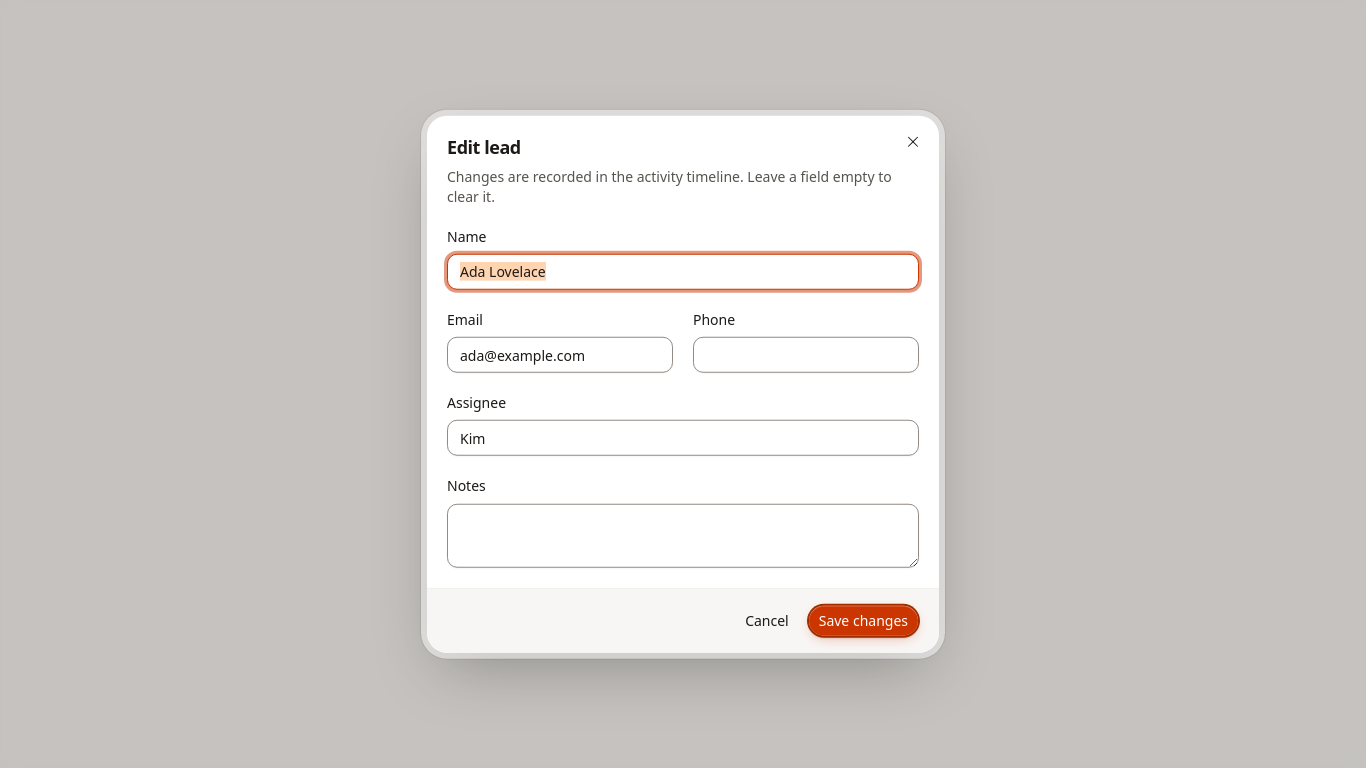
Test: EditLeadDialog › shows validation errors next to the field and does not submit
Replace the text in the field labelled "Email" with "not-an-email" at [560, 355], box top-left (447, 337), bottom-right (673, 373)
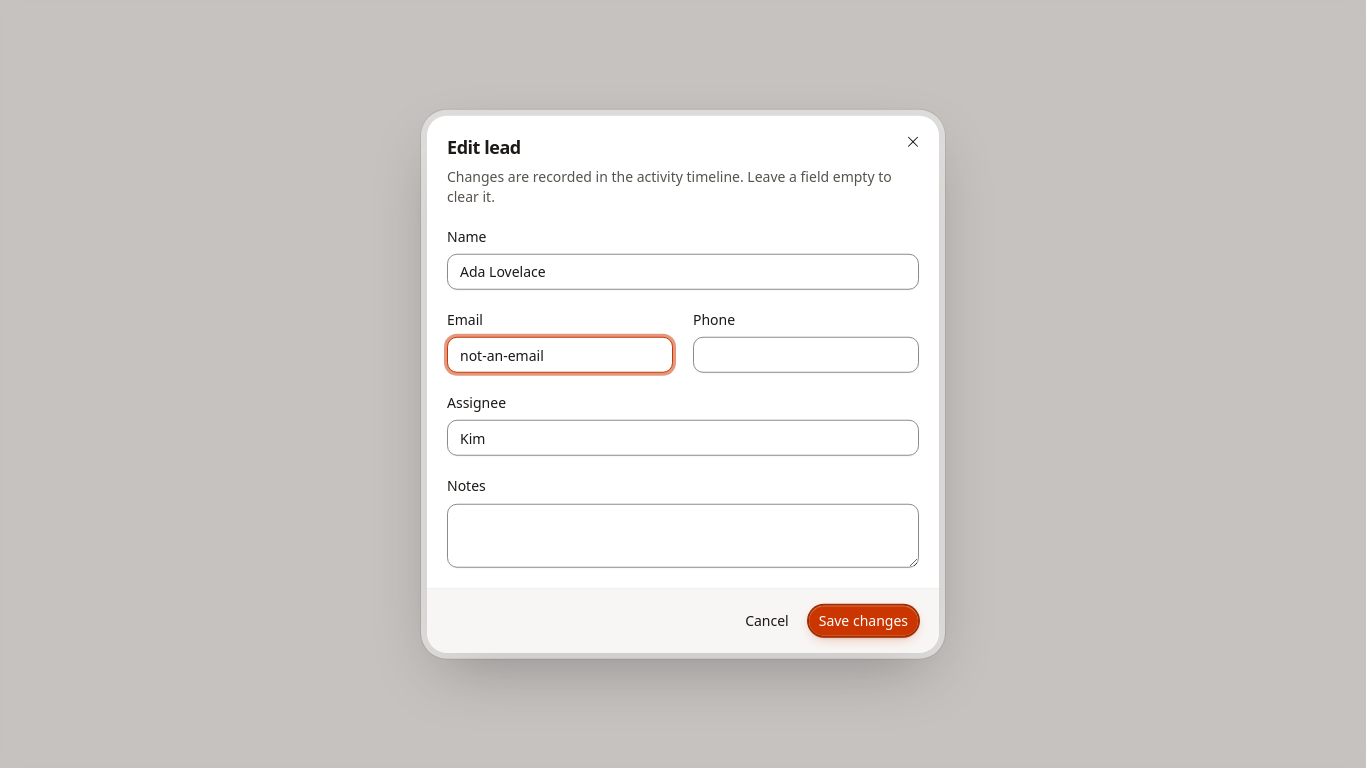
Type "call me" into the field labelled "Phone".
click(806, 355); type("call me")  # box top-left (693, 337), bottom-right (919, 373)
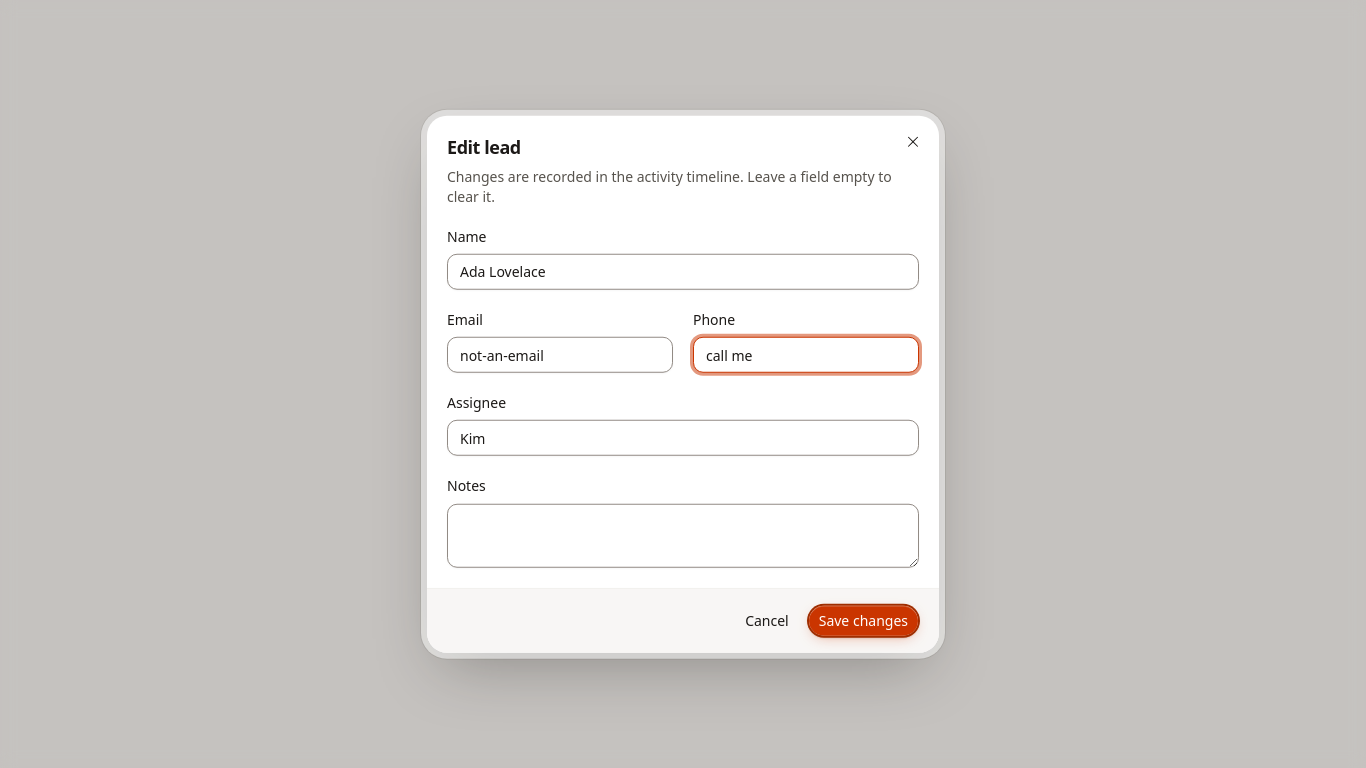
Click the button "Save changes".
click(863, 620)  # box top-left (808, 604), bottom-right (919, 636)
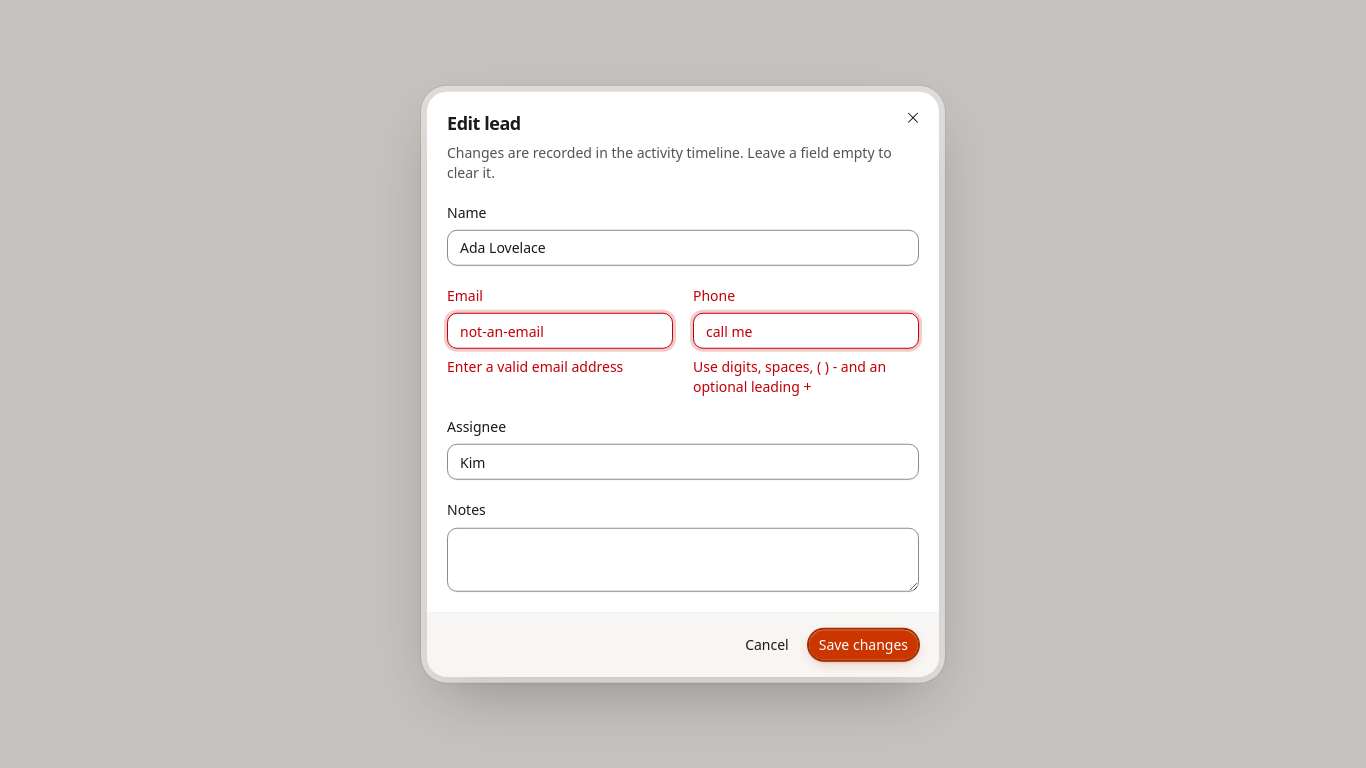
Expected: the text "Enter a valid email address" is shown, top-left (447, 357), bottom-right (623, 376)
Expected: the text "Use digits, spaces, ( ) - and an optional leading +" is shown, top-left (693, 357), bottom-right (919, 397)
